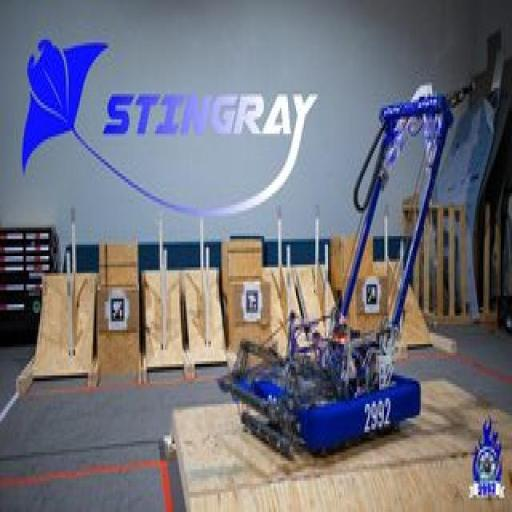robot: (214, 42, 464, 465)
